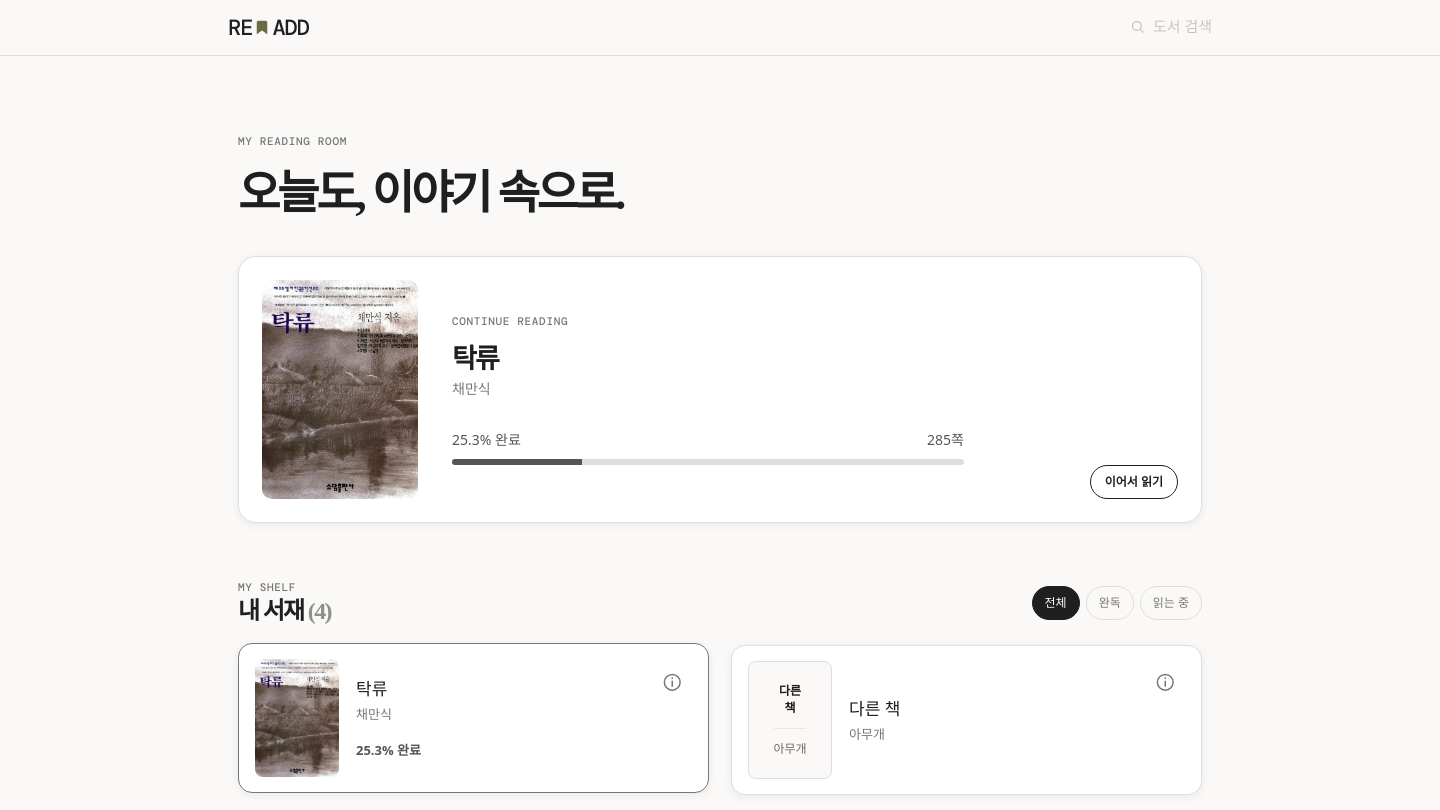
Test: Dashboard › 목록 행을 클릭하면 이동 없이 히어로 미리보기만 바뀐다
Check: the heading "탁류" below "CONTINUE READING" is shown, box [452, 344, 498, 374]
Click the button with aria-label "다른 책 선택" at (790, 720), box [731, 645, 1202, 795]
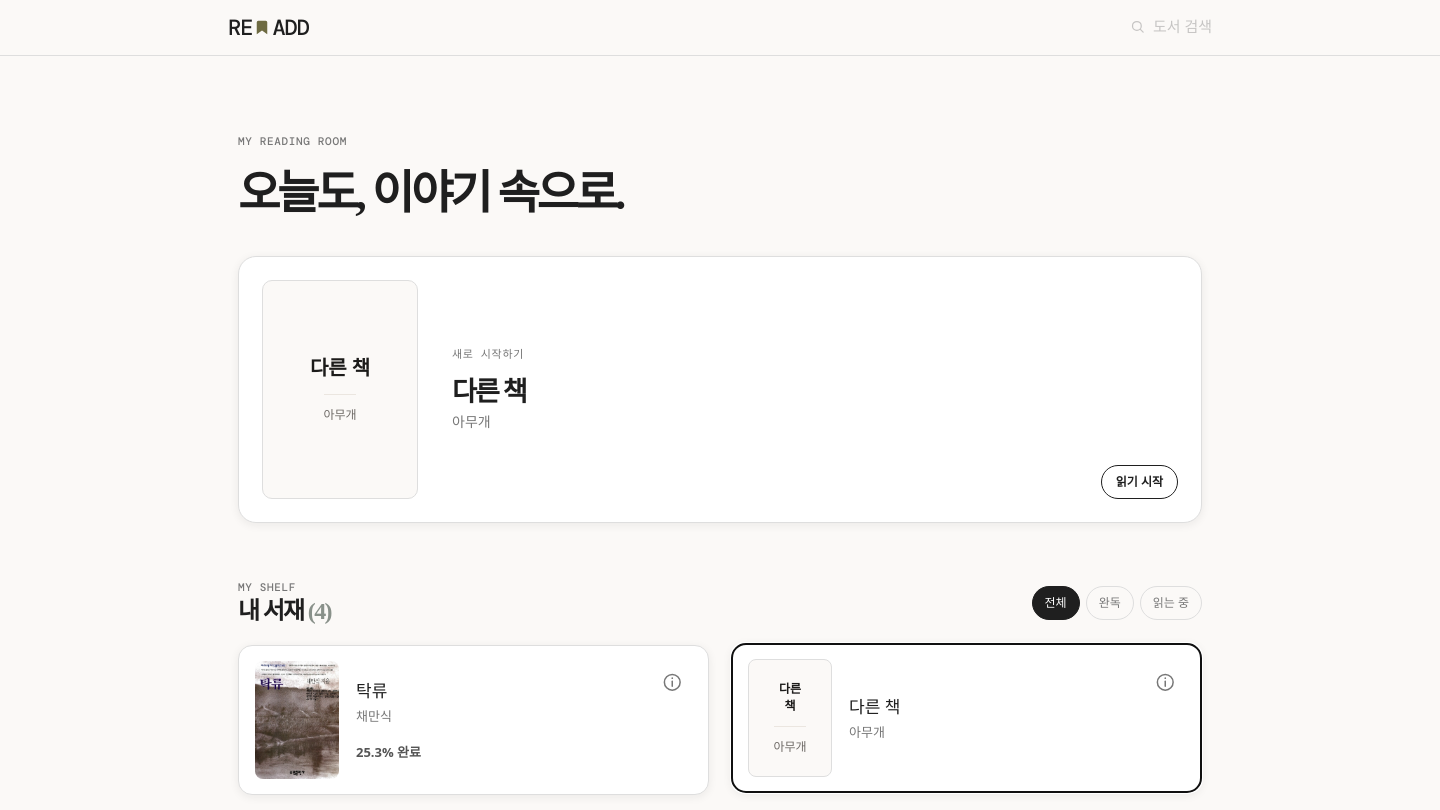
Check: the heading "내 서재 (4)" is shown, box [238, 595, 331, 627]
Check: the heading "다른 책" below "새로 시작하기" is shown, box [452, 376, 526, 406]
Check: the text "새로 시작하기" is shown, box [452, 347, 524, 361]
